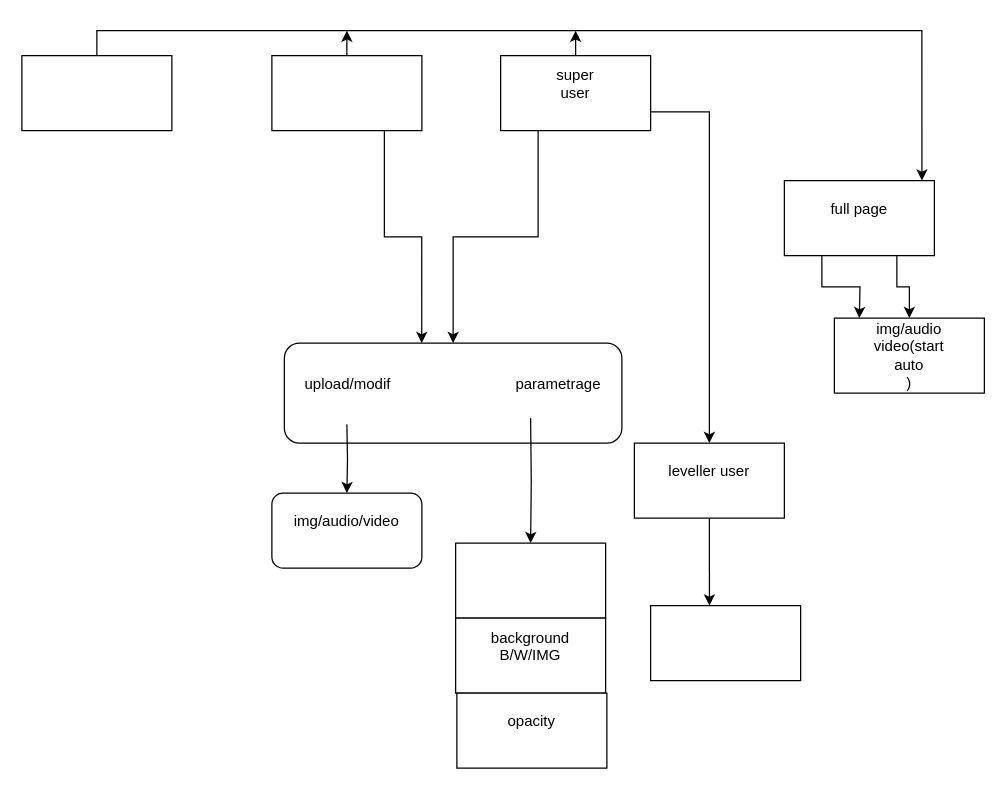
Some shapes in this 1006 by 790 pixel diagram are drawn without their labels. Each missing label, with the centre of its shape:
"create event" belongs at (725,642).
"format vignettes" belongs at (530,580).
"register user" belongs at (346,92).
"visitor" belongs at (96,92).
